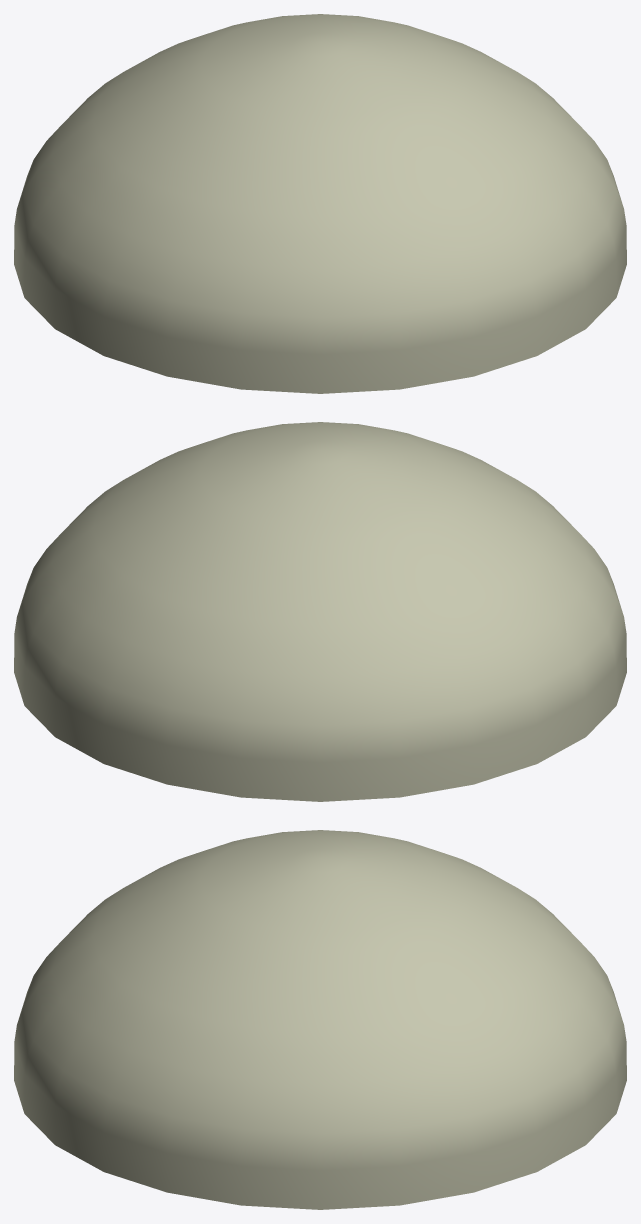
Rendered from AcaciaTortilis.glb.
3 views of the same model, one above another, from view 1: azimuth 30°, elevation 25°; view 2: azimuth 150°, elevation 25°; view 3: azimuth 270°, elevation 25° (orthographic).
Parts seen in each view (by area): view 1: Umbrella_Acacia__Schematic_LOD3; view 2: Umbrella_Acacia__Schematic_LOD3; view 3: Umbrella_Acacia__Schematic_LOD3.
Boxes of the visible parts, x1,y1,x2,y2 form: Umbrella_Acacia__Schematic_LOD3: (14,14,626,393); Umbrella_Acacia__Schematic_LOD3: (14,422,626,801); Umbrella_Acacia__Schematic_LOD3: (14,830,626,1209).
Bounding box in the file's own units: 32.84 × 18.4 × 32.84.
